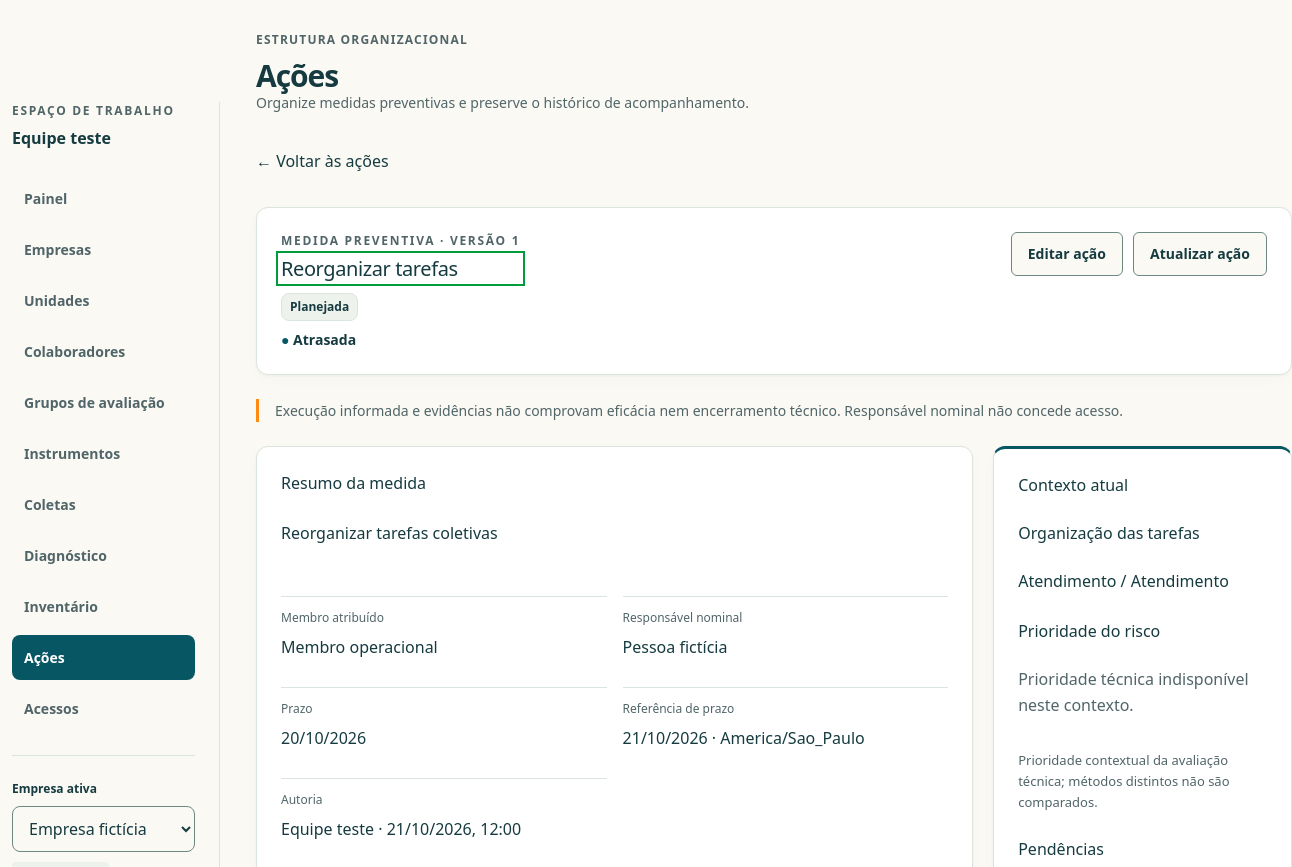
Test: conflito conserva texto e exige consultar versão atual antes de reaplicar
Expected: the heading "Reorganizar tarefas" is shown, [281,255,458,282]
Click the button "Editar ação": (1067, 254) [1011,232,1123,276]
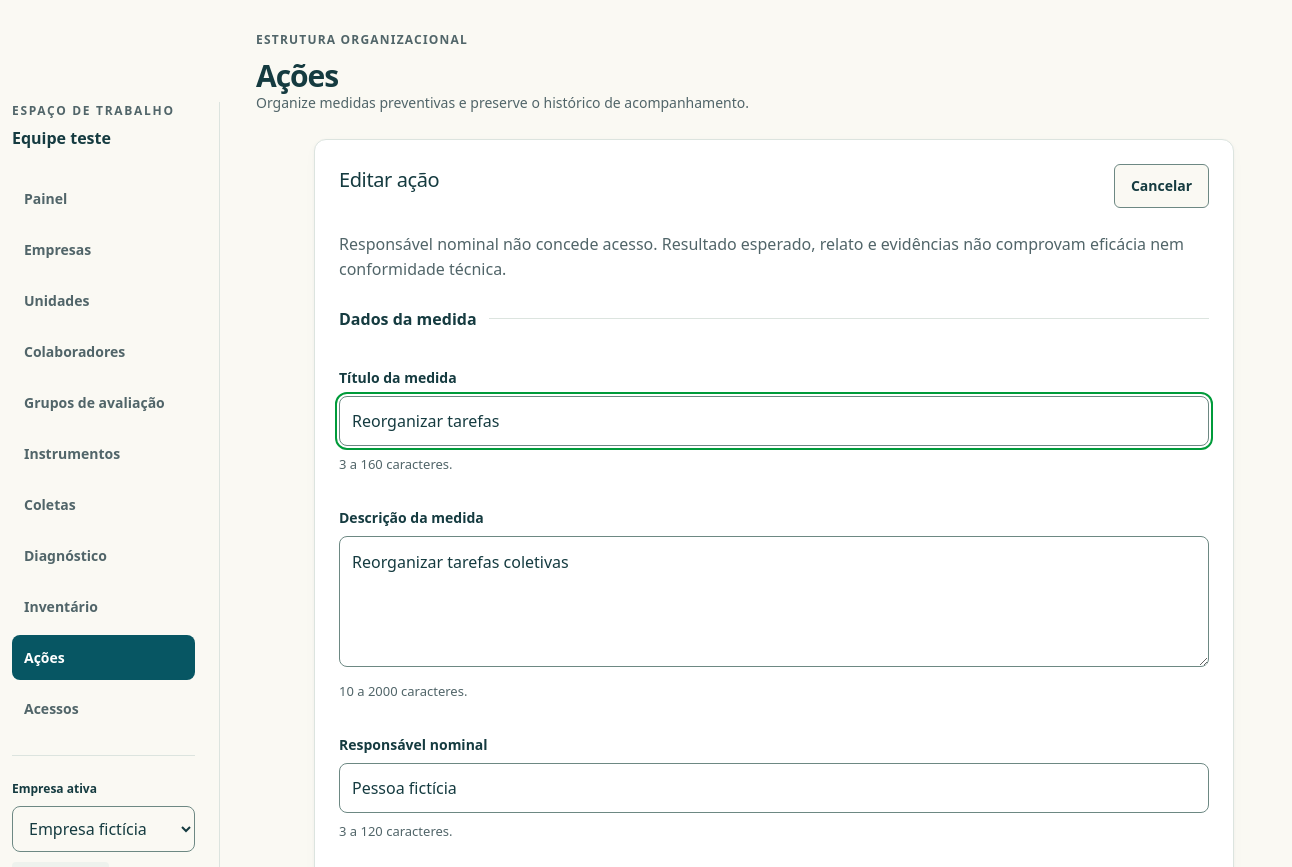
Replace the text in the field labelled "Título da medida" with "Novo título preservado": (774, 421) [339,396,1209,446]
(page scrolled)
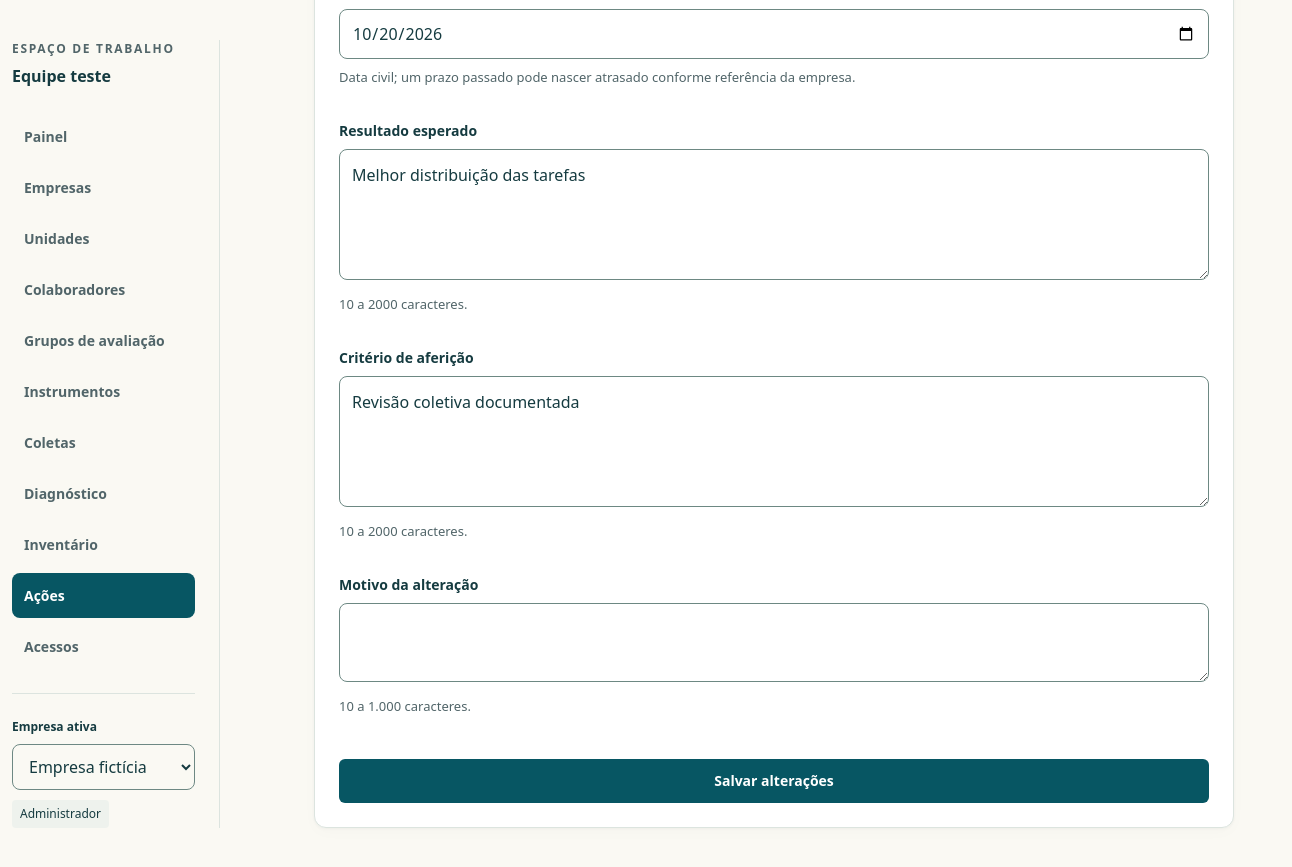
In the text box labelled "Motivo da alteração": (774, 643) [339,603,1209,682], type "Ajuste de planejamento necessário"
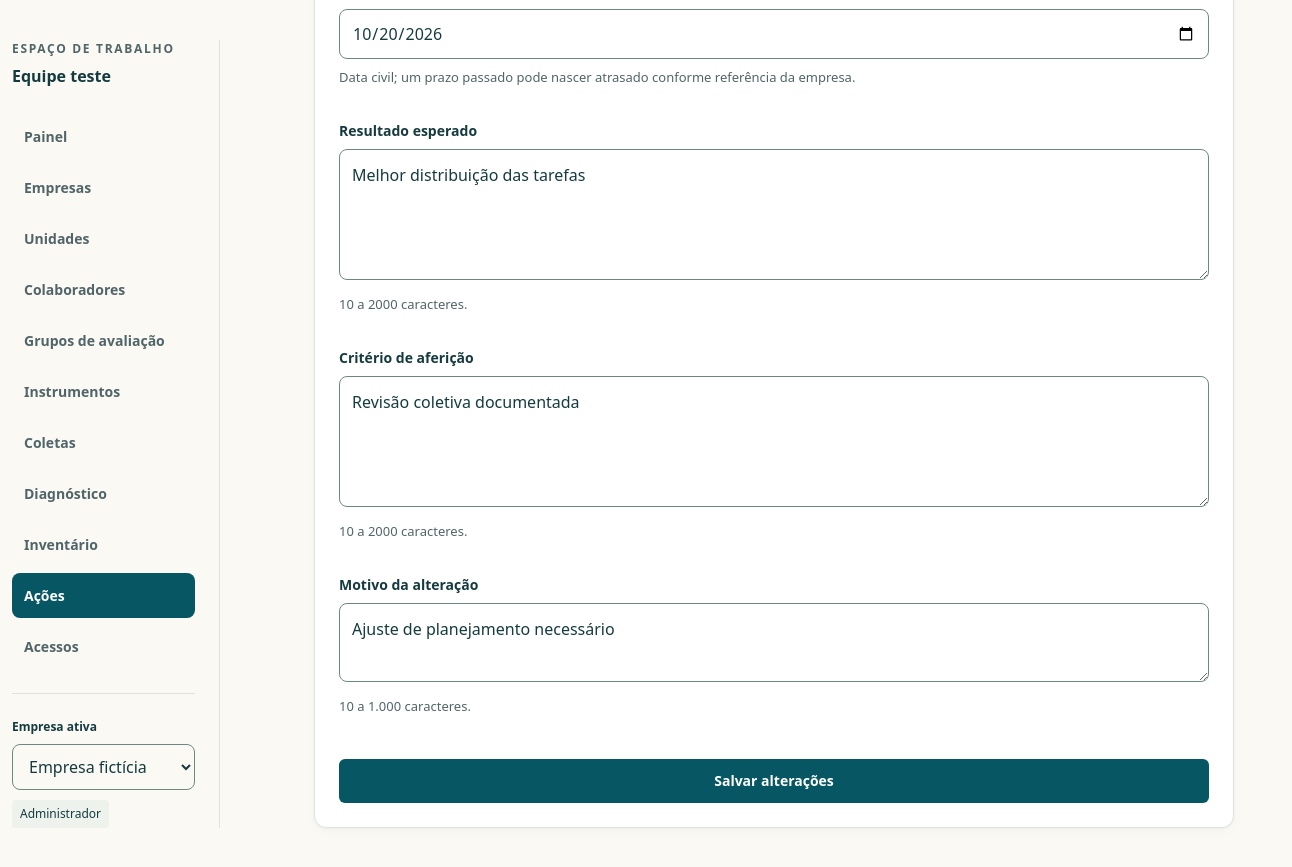
Click the button "Salvar alterações": (774, 781) [339,759,1209,803]
(page scrolled)
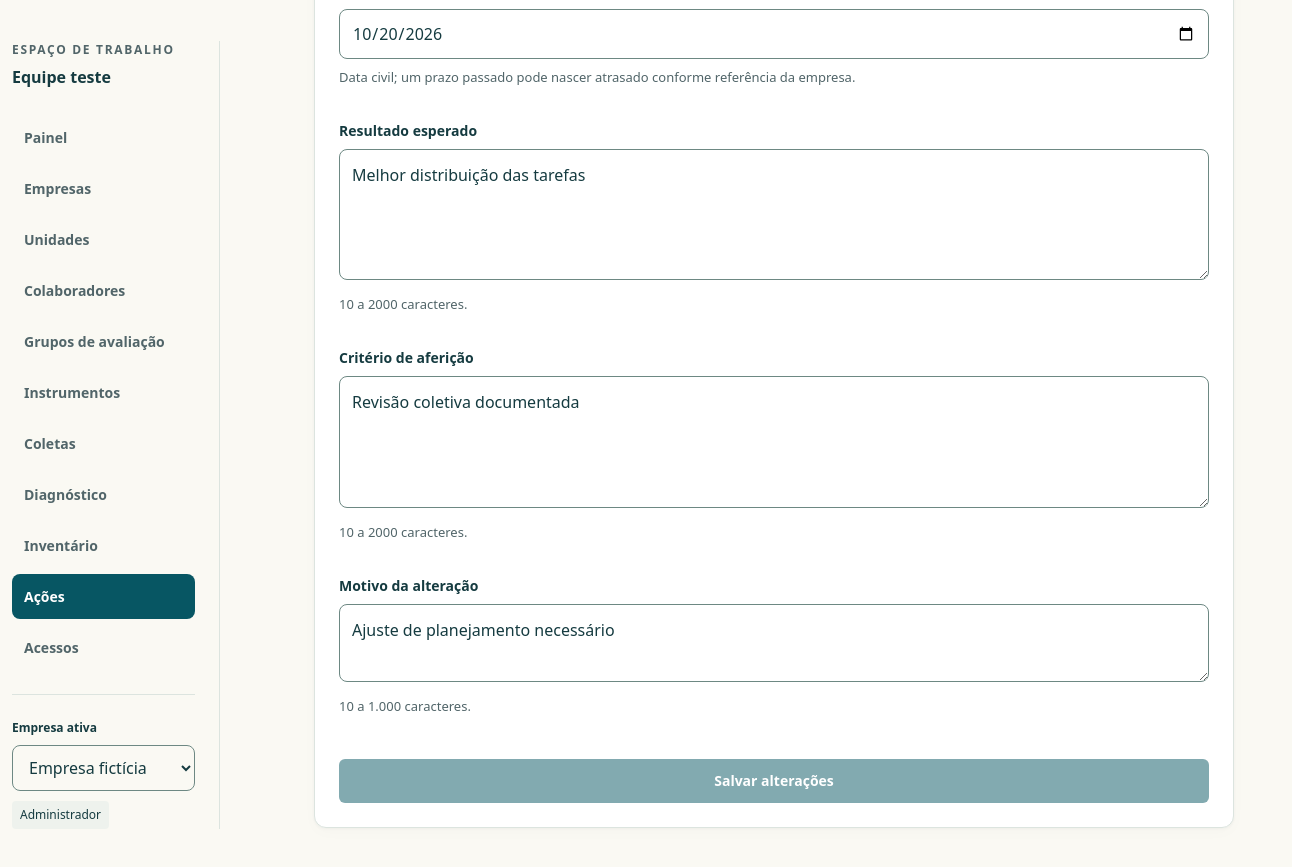
Expected: the button "Salvar alterações" is disabled, [339,759,1209,803]
